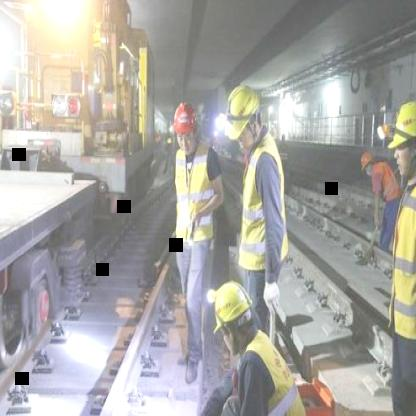helmet: (208, 283, 254, 355), (222, 82, 264, 152), (389, 96, 416, 180), (172, 101, 198, 154), (360, 146, 374, 175)
